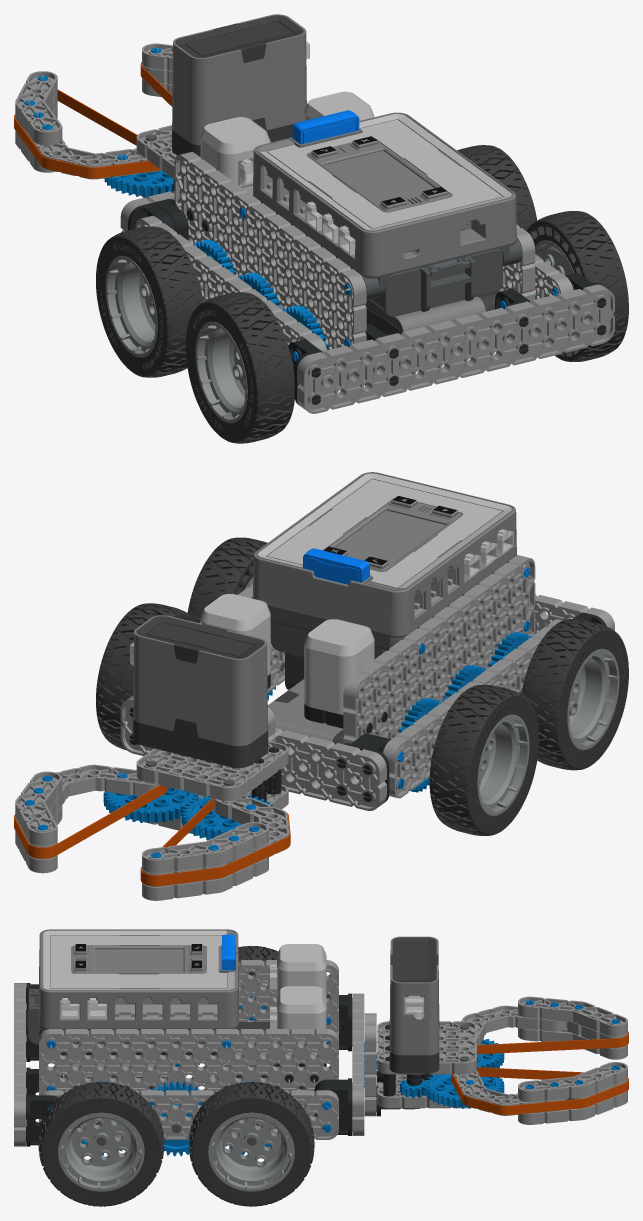
Rendered from The Beetle v2.fbx.
3 renders of one model, top to bottom at view 1: azimuth 30°, elevation 25°; view 2: azimuth 150°, elevation 25°; view 3: azimuth 270°, elevation 25°, orthographic. The views are drawn at different scales.
Parts seen in each view (by area): view 1: 228-2540:1, 228-2500-026:5, 228-2500-045:2, 228-2560:3, 228-2500-209:3, 228-2500-209:4, 228-2500-209:1, 228-2500-208:4, 228-2500-208:3, 228-2500-026:2, 228-3010:1, Beetle Claw Band (+17 smaller); view 2: 228-2540:1, 228-2560:3, 228-2500-045:2, 228-2500-209:4, 228-2500-209:3, 228-2500-025:3, 228-2500-026:2, 228-3010:1, 228-2500-040:1, Beetle Claw Band (×2), 228-2500-209:2, 228-2500-208:3 (+19 smaller); view 3: 228-2540:1, 228-2500-045:1, 228-2500-209:1, 228-2500-209:2, 228-2560:3, 228-2500-208:1, 228-2500-208:2, Beetle Claw Band (×2), 228-2500-026:4, 228-2500-045:2, 228-2500-040:1, 228-2500-147:1 (+21 smaller).
Part boxes in pixels (x1,y1,x2,y2): 228-2540:1: [253, 110, 522, 316]; 228-2500-026:5: [297, 284, 614, 413]; 228-2500-045:2: [174, 152, 366, 376]; 228-2560:3: [172, 14, 306, 156]; 228-2500-209:3: [185, 292, 294, 443]; 228-2500-209:4: [96, 226, 203, 377]; 228-2500-209:1: [526, 211, 628, 361]; 228-2500-208:4: [105, 256, 157, 357]; 228-2500-208:3: [195, 322, 247, 423]; 228-2500-026:2: [135, 215, 327, 382]; 228-3010:1: [200, 117, 270, 195]; Beetle Claw Band: [14, 89, 161, 178]; 228-2540:1: [252, 472, 517, 658]; 228-2560:3: [133, 615, 268, 767]; 228-2500-045:2: [343, 555, 535, 743]; 228-2500-209:4: [429, 684, 538, 835]; 228-2500-209:3: [521, 619, 628, 770]; 228-2500-025:3: [120, 696, 386, 810]; 228-2500-026:2: [383, 619, 562, 798]; 228-3010:1: [304, 619, 374, 714]; 228-2500-040:1: [136, 741, 288, 801]; Beetle Claw Band (×2): [14, 767, 290, 886]; 228-2500-209:2: [96, 603, 197, 750]; 228-2500-208:3: [567, 648, 619, 749]; 228-2540:1: [28, 929, 238, 1055]; 228-2500-045:1: [39, 1029, 338, 1116]; 228-2500-209:1: [38, 1082, 164, 1206]; 228-2500-209:2: [189, 1082, 314, 1206]; 228-2560:3: [389, 936, 439, 1073]; 228-2500-208:1: [58, 1112, 144, 1191]; 228-2500-208:2: [208, 1112, 294, 1191]; Beetle Claw Band (×2): [451, 1008, 628, 1115]; 228-2500-026:4: [39, 1090, 338, 1139]; 228-2500-045:2: [238, 960, 338, 1037]; 228-2500-040:1: [377, 1021, 476, 1074]; 228-2500-147:1: [518, 996, 627, 1036].
Size of the model in its own units: 18.26 by 10.38 by 31.18.
